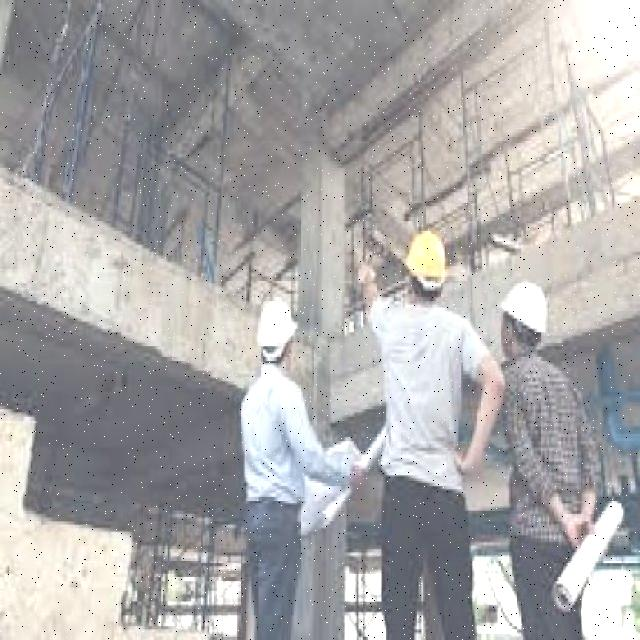Helmet: (400, 230, 456, 292), (497, 282, 554, 341), (254, 297, 302, 363)
